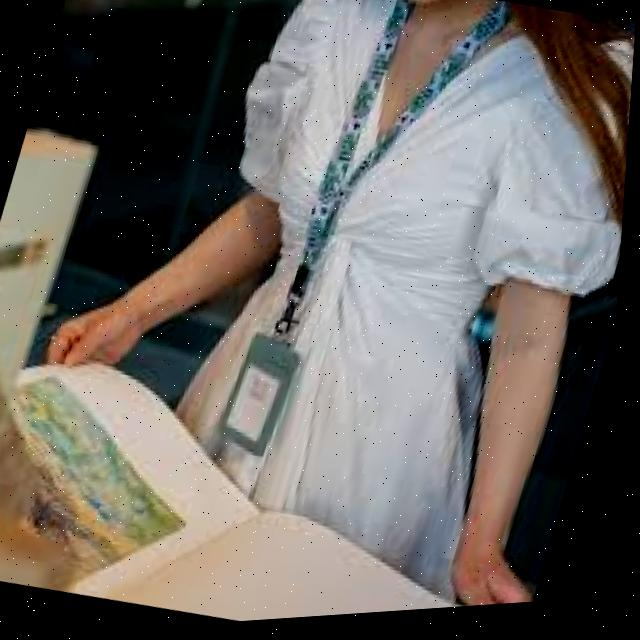id_card: (207, 11, 437, 472)
